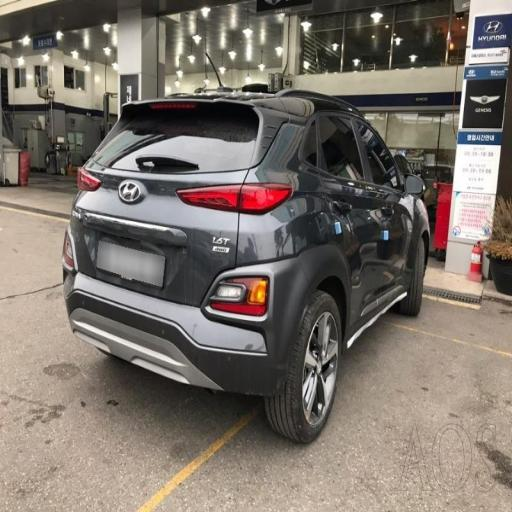dent: (129, 210, 232, 362)
